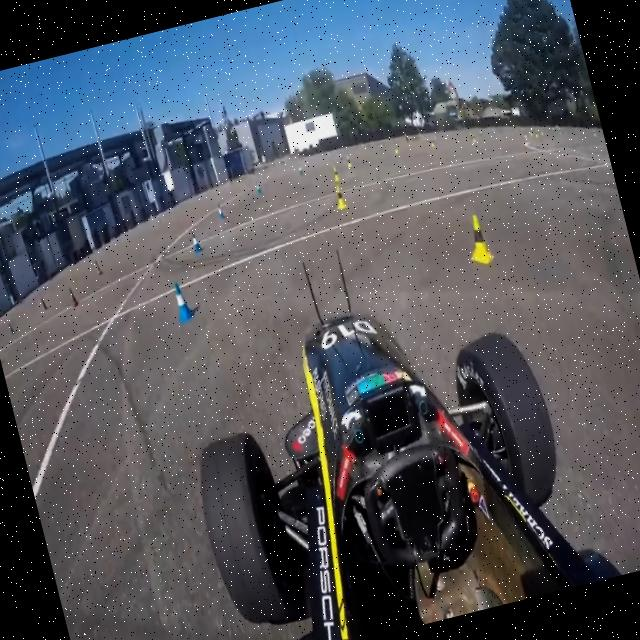blue_cone: (168, 276, 198, 326), (190, 230, 202, 252), (214, 202, 226, 220), (254, 180, 262, 196)
yellow_cone: (460, 210, 496, 269), (330, 182, 349, 210), (331, 164, 342, 184)
